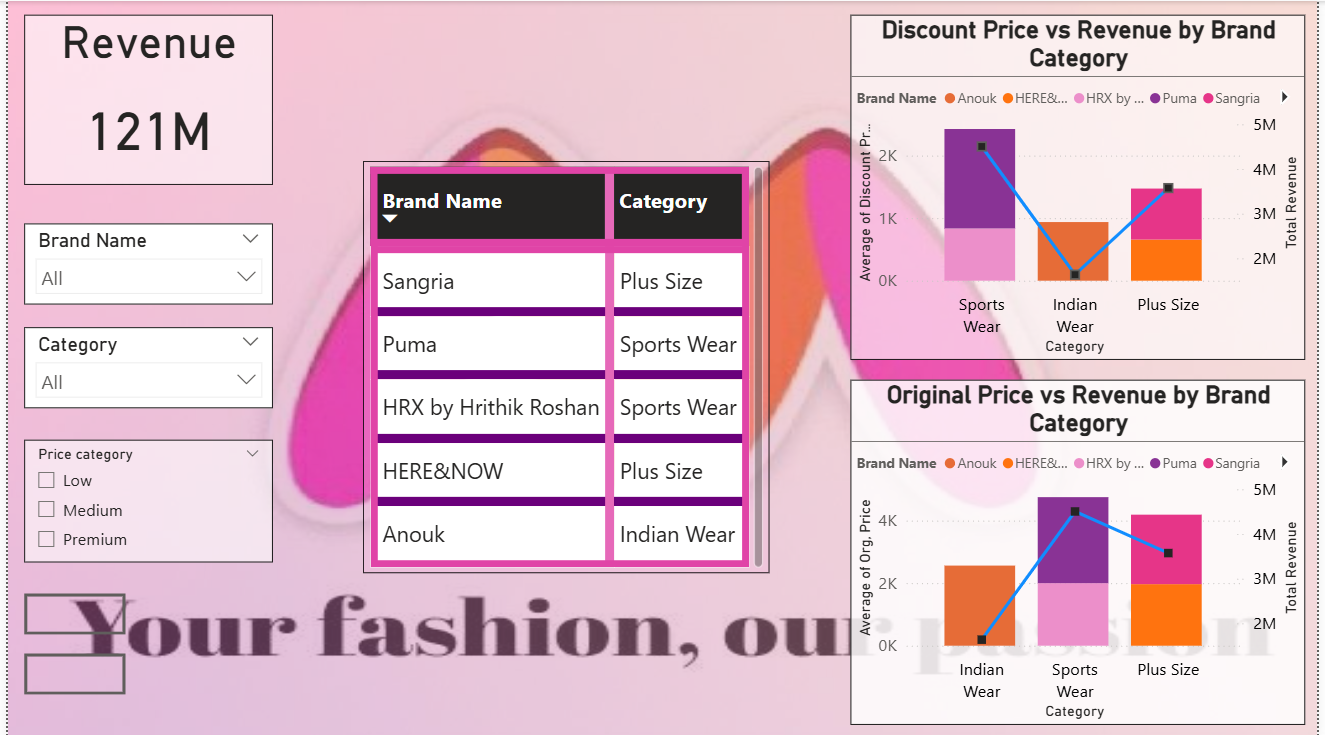

The page's visual inventory and layout, read from the dashboard file:
{"tool":"powerbi","page":{"name":"Revenue Analysis","canvas":[1280,720],"ordinal":1},"visuals":[{"type":"lineStackedColumnComboChart","title":"Discount Price vs Revenue by Brand Category","fields":{"Y":["Myntra Fasion Clothing.Discount Price (in Rs)"],"Category":["Myntra Fasion Clothing.Category"],"Y2":["Myntra Fasion Clothing.Total Revenue"],"Series":["Myntra Fasion Clothing.Brand Name"]},"box":[824.2,13.5,445.1,337.5],"z":0},{"type":"lineStackedColumnComboChart","title":"Original Price vs Revenue by  Brand Category ","fields":{"Category":["Myntra Fasion Clothing.Category"],"Y":["Myntra Fasion Clothing.Original Price (in Rs)"],"Y2":["Myntra Fasion Clothing.Total Revenue"],"Series":["Myntra Fasion Clothing.Brand Name"]},"box":[824.2,370.5,445.1,337.5],"z":1000},{"type":"card","title":"Revenue","fields":{"Values":["Myntra Fasion Clothing.Total Revenue"]},"box":[15.9,13.5,243.3,166.3],"z":2000},{"type":"slicer","fields":{"Values":["Myntra Fasion Clothing.Price category"]},"box":[15.9,429.2,243.3,119.8],"z":3000},{"type":"slicer","fields":{"Values":["Myntra Fasion Clothing.Category"]},"box":[15.9,319.2,243.3,79.5],"z":4000},{"type":"slicer","fields":{"Values":["Myntra Fasion Clothing.Brand Name"]},"box":[15.9,217.7,243.3,79.5],"z":5000},{"type":"actionButton","box":[15.9,579.6,99,40.4],"z":6000},{"type":"actionButton","box":[15.9,638.3,99,40.4],"z":7000},{"type":"tableEx","fields":{"Values":["Myntra Fasion Clothing.Brand Name","Myntra Fasion Clothing.Category"]},"box":[347.3,156.5,397.4,403.5],"z":8000}]}

Visuals, with their boxes in screenshot pixels (x1, y1, x2, y2), scaled from the page's 1280x720 canvas onto the 1325x735 screenshot:
"Discount Price vs Revenue by Brand Category" lineStackedColumnComboChart: [853, 14, 1314, 358]
"Original Price vs Revenue by  Brand Category " lineStackedColumnComboChart: [853, 378, 1314, 723]
"Revenue" card: [16, 14, 268, 184]
slicer - Myntra Fasion Clothing.Price category: [16, 438, 268, 560]
slicer - Myntra Fasion Clothing.Category: [16, 326, 268, 407]
slicer - Myntra Fasion Clothing.Brand Name: [16, 222, 268, 303]
actionButton: [16, 592, 119, 633]
actionButton: [16, 652, 119, 693]
tableEx - Myntra Fasion Clothing.Brand Name x Myntra Fasion Clothing.Category: [360, 160, 771, 572]
